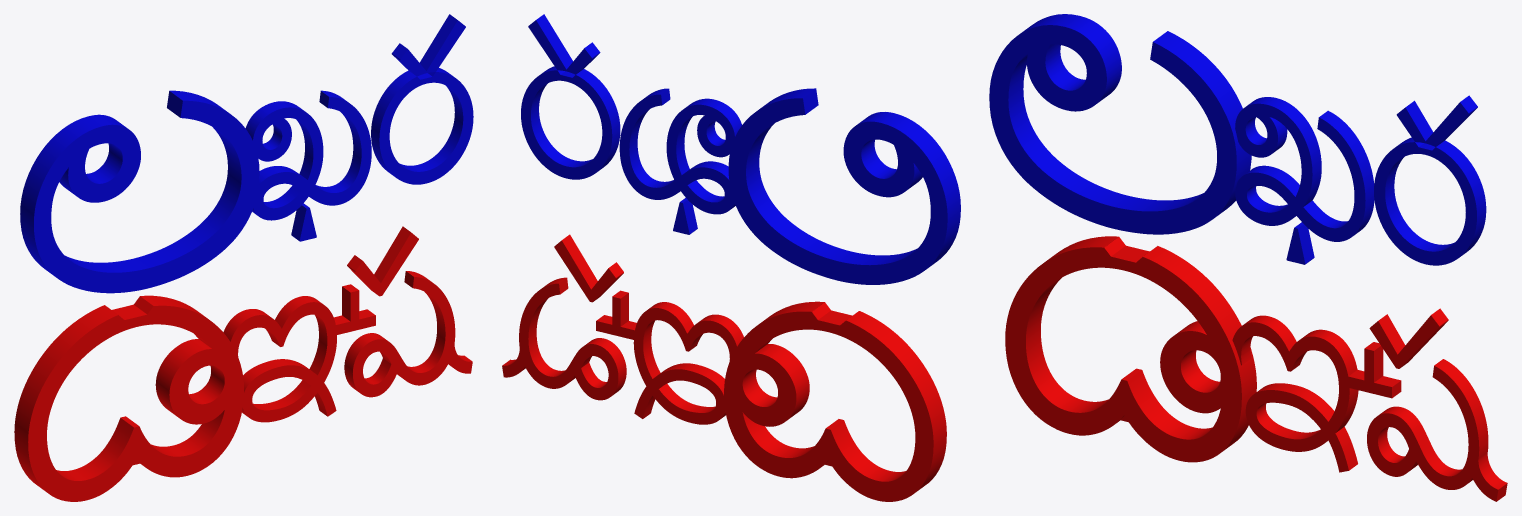
Rendered from Text_sign_22.fbx.
3 views of the same model, side by side, from view 1: azimuth 30°, elevation 25°; view 2: azimuth 150°, elevation 25°; view 3: azimuth 330°, elevation 25° (orthographic). The views are drawn at different scales.
Visible parts, largest first — view 1: Text_sign_22; view 2: Text_sign_22; view 3: Text_sign_22.
Part boxes in pixels (box(x1,y1,x2,y2)): Text_sign_22: box(14, 14, 473, 501); Text_sign_22: box(502, 14, 960, 501); Text_sign_22: box(989, 14, 1507, 501).
Size of the model in its own units: 77.91 by 65.43 by 7.1.
